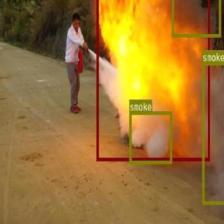fire: (96, 0, 209, 160)
smoke: (201, 61, 224, 204), (128, 111, 172, 163), (171, 0, 221, 37)
